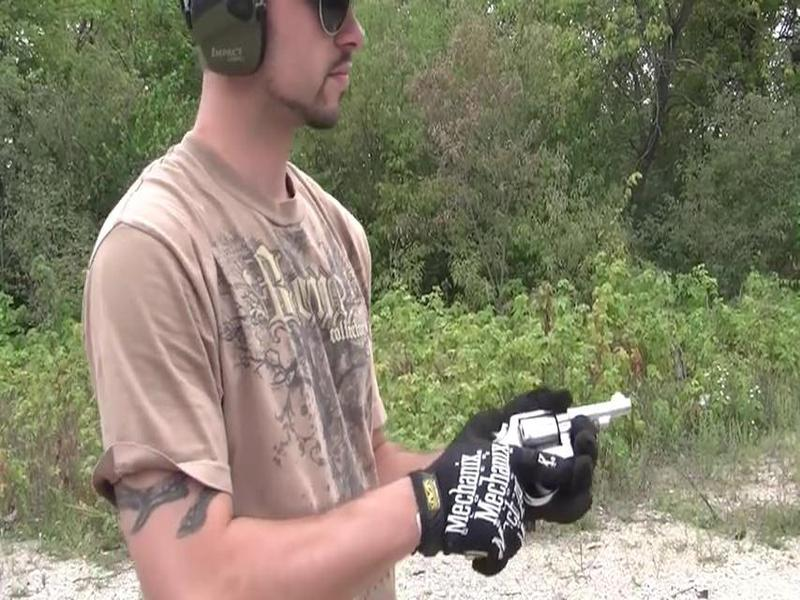Revolver: (471, 380, 637, 490)
